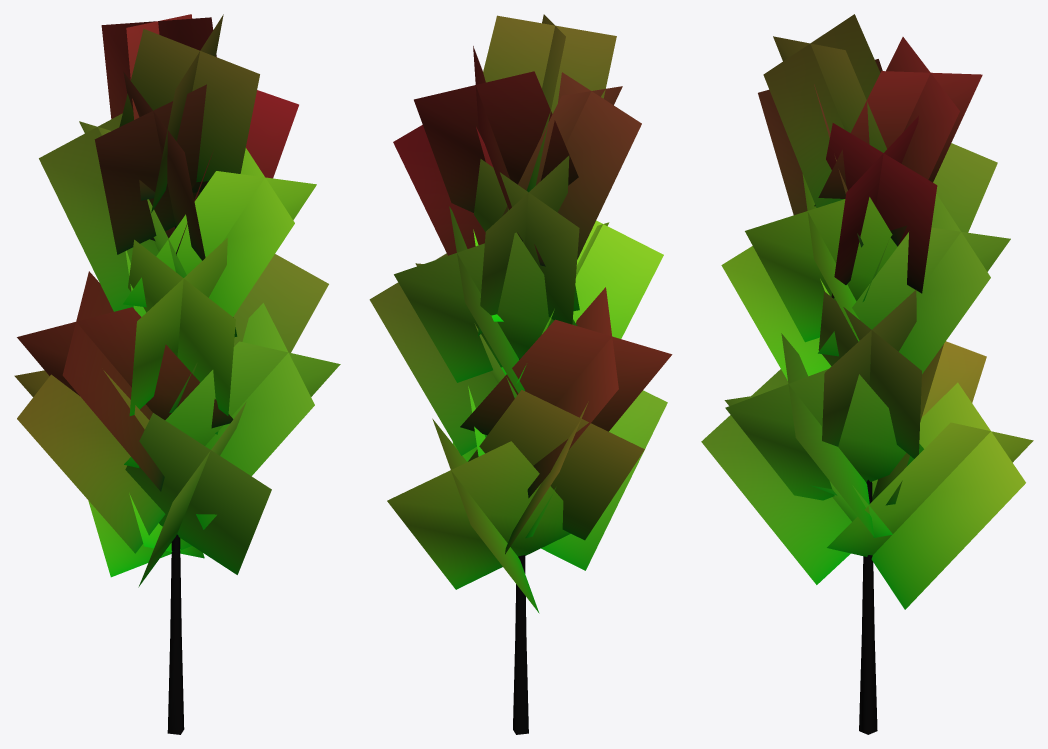
Rendered from SuperTree_18.fbx.
3 views of the same model, side by side, from view 1: azimuth 30°, elevation 25°; view 2: azimuth 150°, elevation 25°; view 3: azimuth 270°, elevation 25° (orthographic). The views are drawn at different scales.
Visible parts, largest first — view 1: SuperTree_18; view 2: SuperTree_18; view 3: SuperTree_18.
Boxes of the visible parts, x1,y1,x2,y2 form: SuperTree_18: (14, 14, 340, 734); SuperTree_18: (369, 14, 672, 734); SuperTree_18: (701, 14, 1033, 734).
Bounding box in the file's own units: 416 × 1040 × 449.
